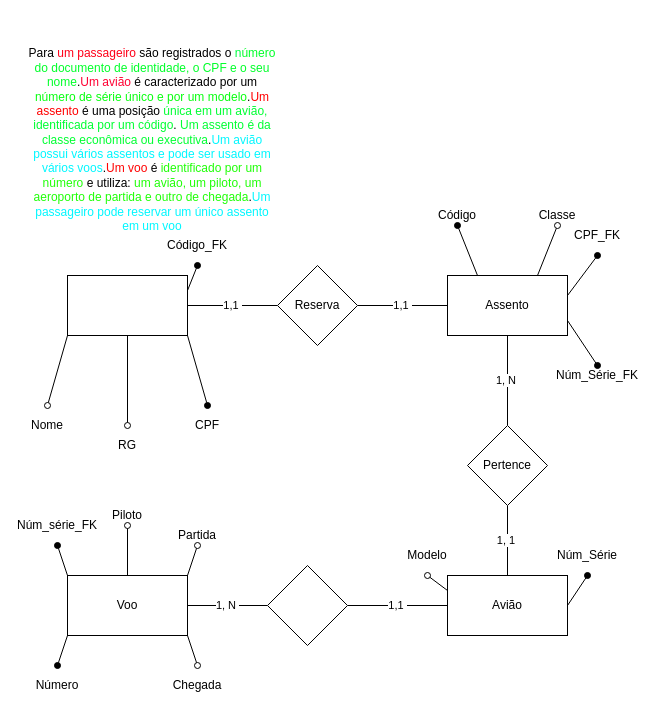
This 655x712 diagram has some shape labels left out. The shapes that lost their labels are listed below. From the top down, each one's centre as x and y in pixels, then its label:
At (127,305): "Passageiro".
At (307,605): "Faz".
